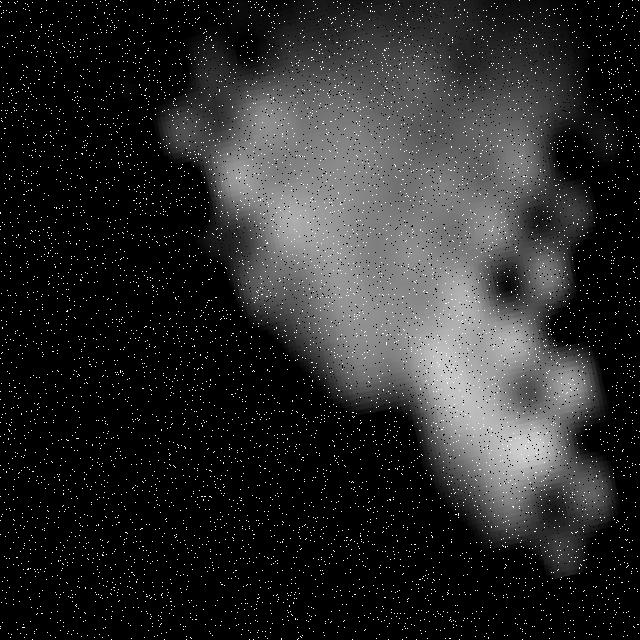person: (135, 1, 640, 636)
